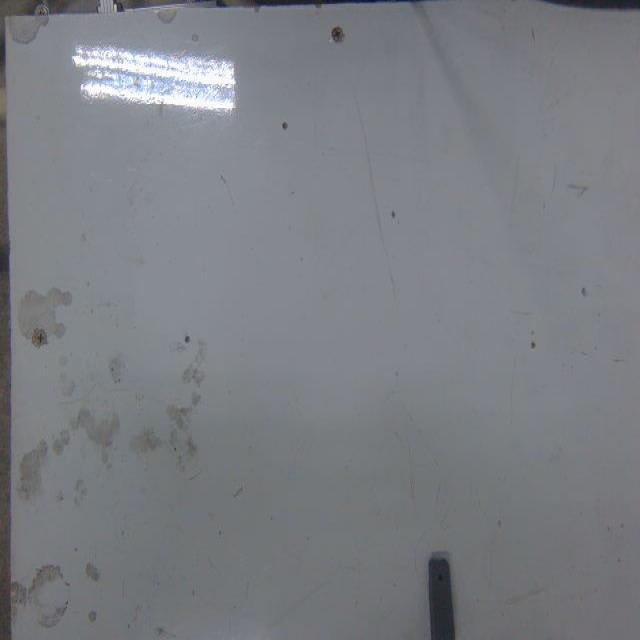grey: (426, 554, 459, 640)
head: (436, 574, 444, 582)
